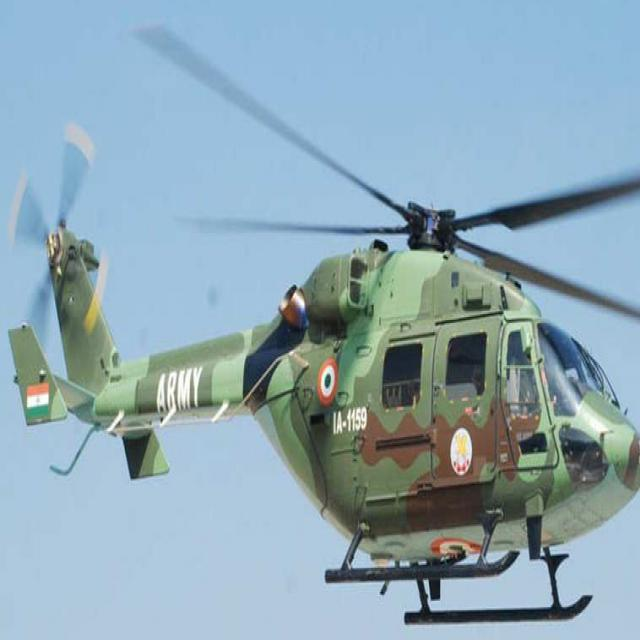helicopter: (2, 19, 640, 640)
